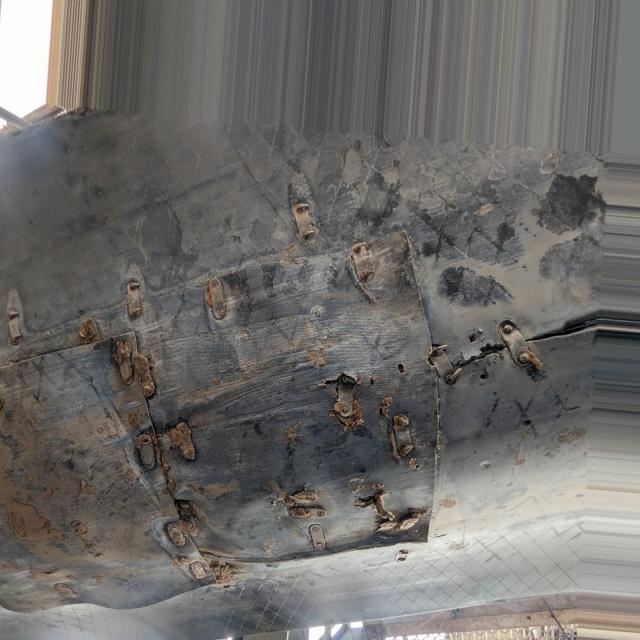patch work: (0, 184, 580, 617)
